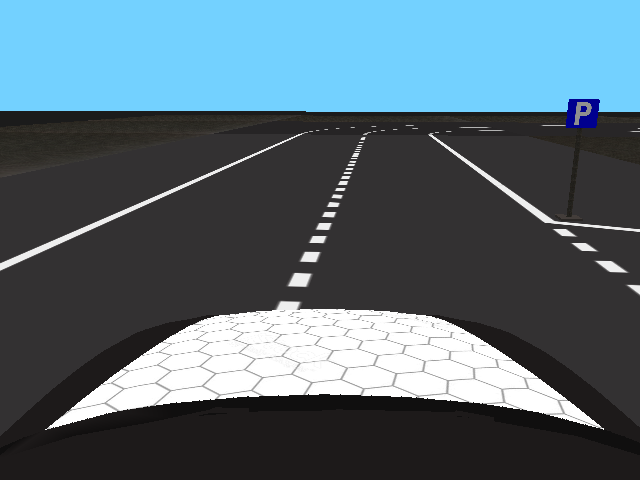parking: (564, 98, 600, 128)
